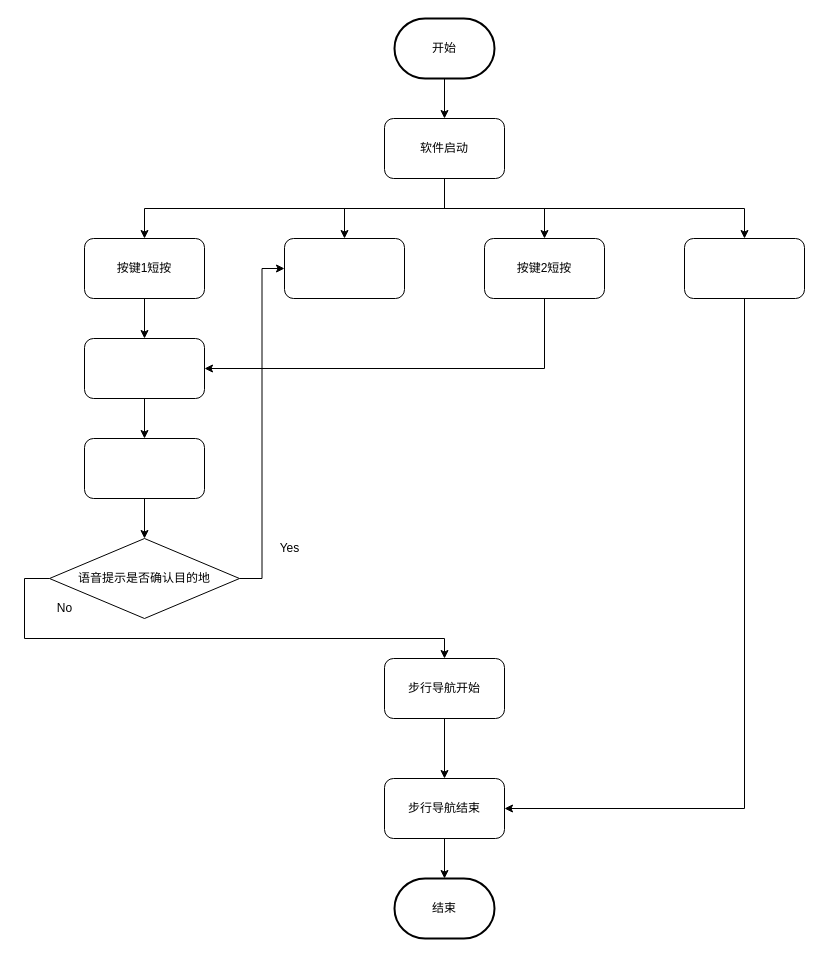
Image size: 822x956. Some labels were removed from this diagram. Here are the shapes that lost their labels. From the top down, the centre of each, then its label:
pixel 344 268: 按键1长按
pixel 744 268: 按键2长按
pixel 144 368: 语音提示输入目的地
pixel 144 468: 搜索目的地
